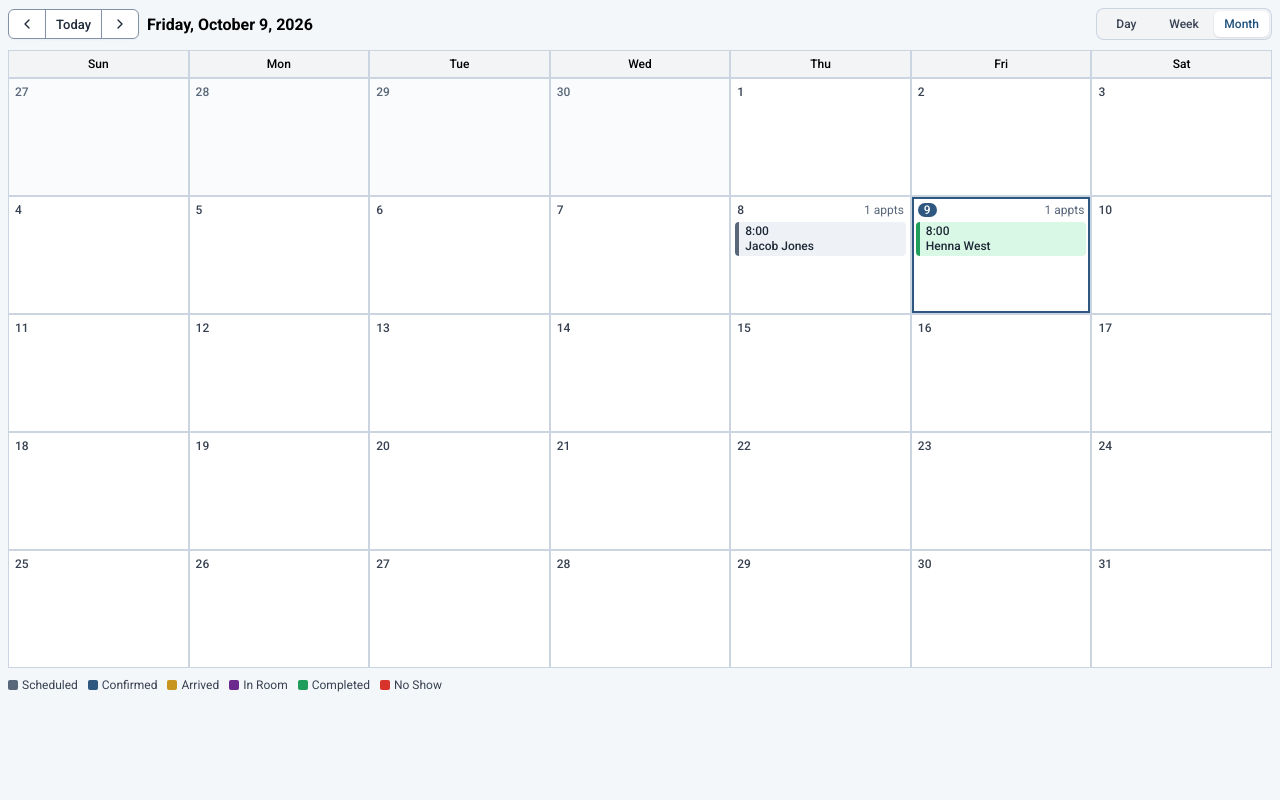
Calendar › navigates by view and back to today
The image size is (1280, 800).
What coordinates should you click on to do the following:
click the button named "Next"
I would click on:
 (120, 24)
Its box is [101,9,139,39].
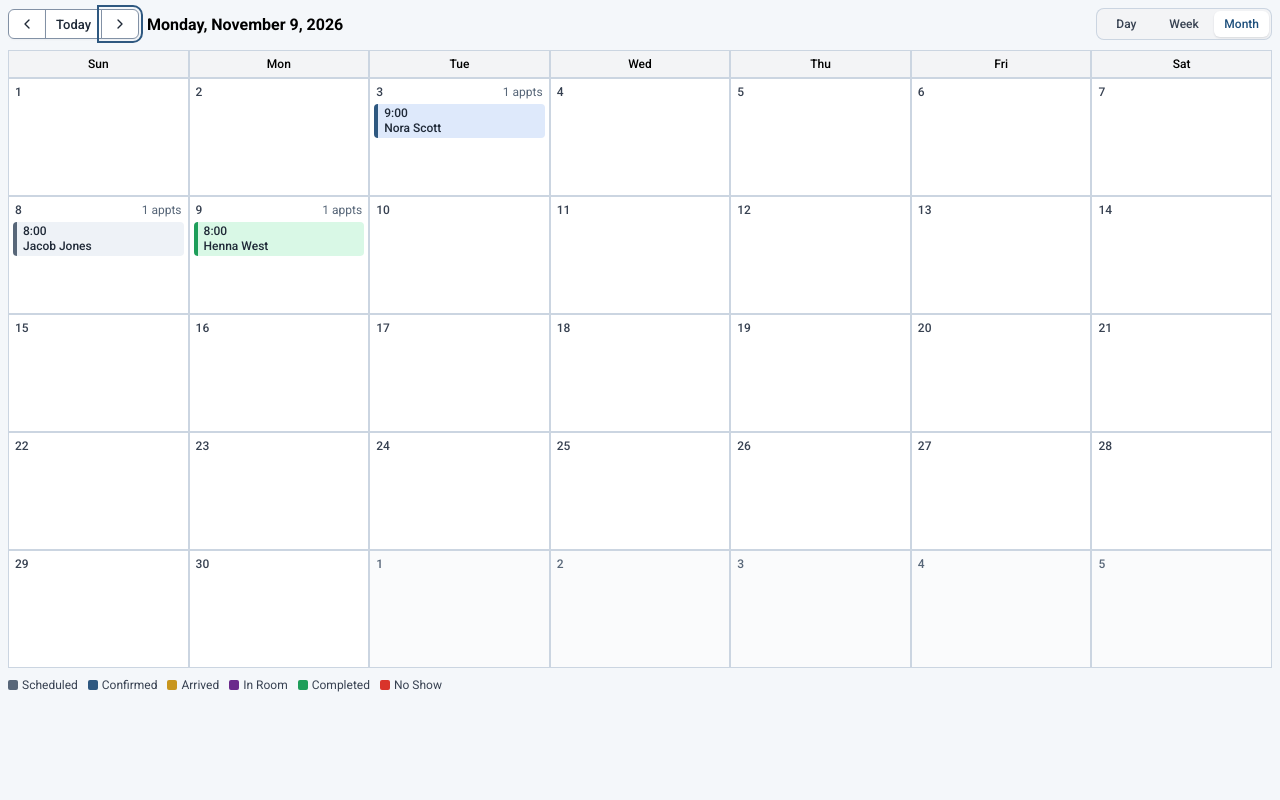
Result: the button "9:00 Nora Scott" is shown at [374,104,545,138]
What coordinates should you click on to do the following:
click the button "Today"
I would click on:
 (74, 24)
Its box is [45,9,102,39].
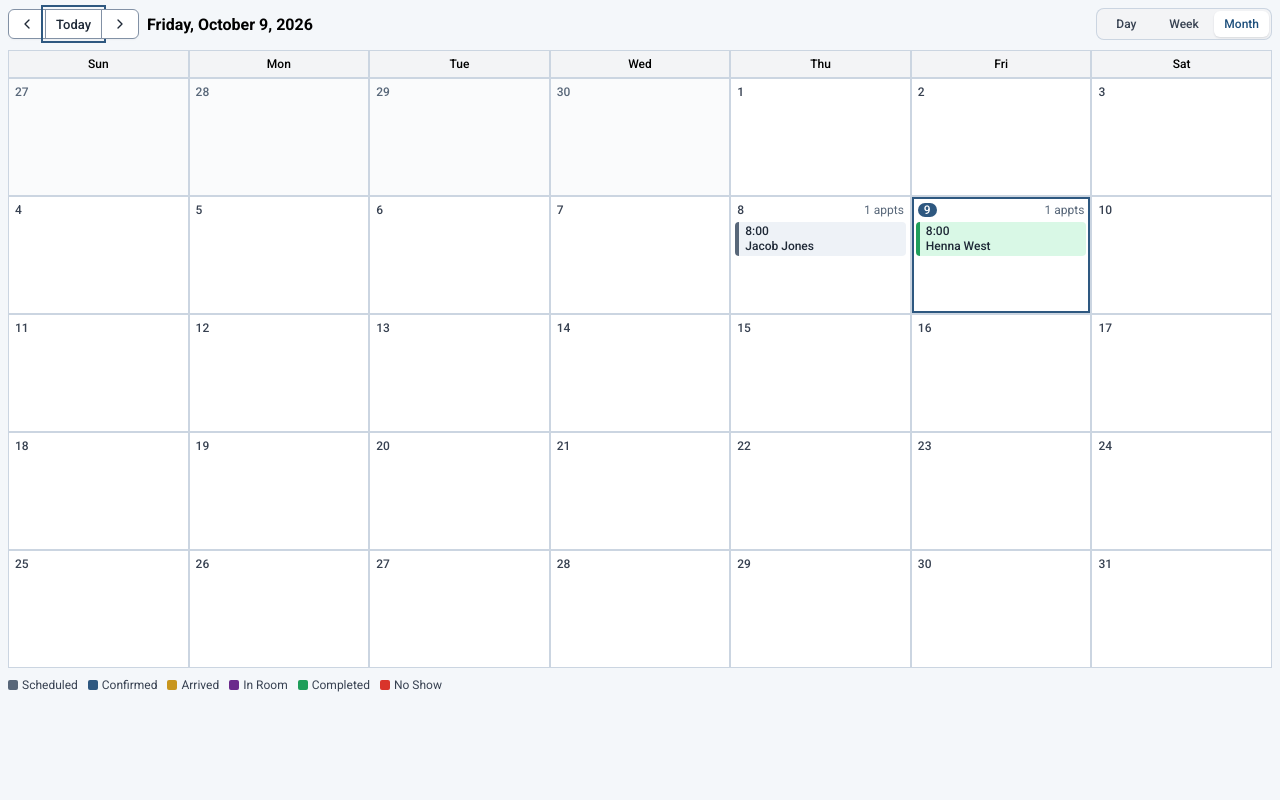
Result: the table named "October 2026" is shown
What coordinates should you click on to do the following:
click the button named "Previous"
I would click on:
 (27, 24)
Its box is [8,9,46,39].
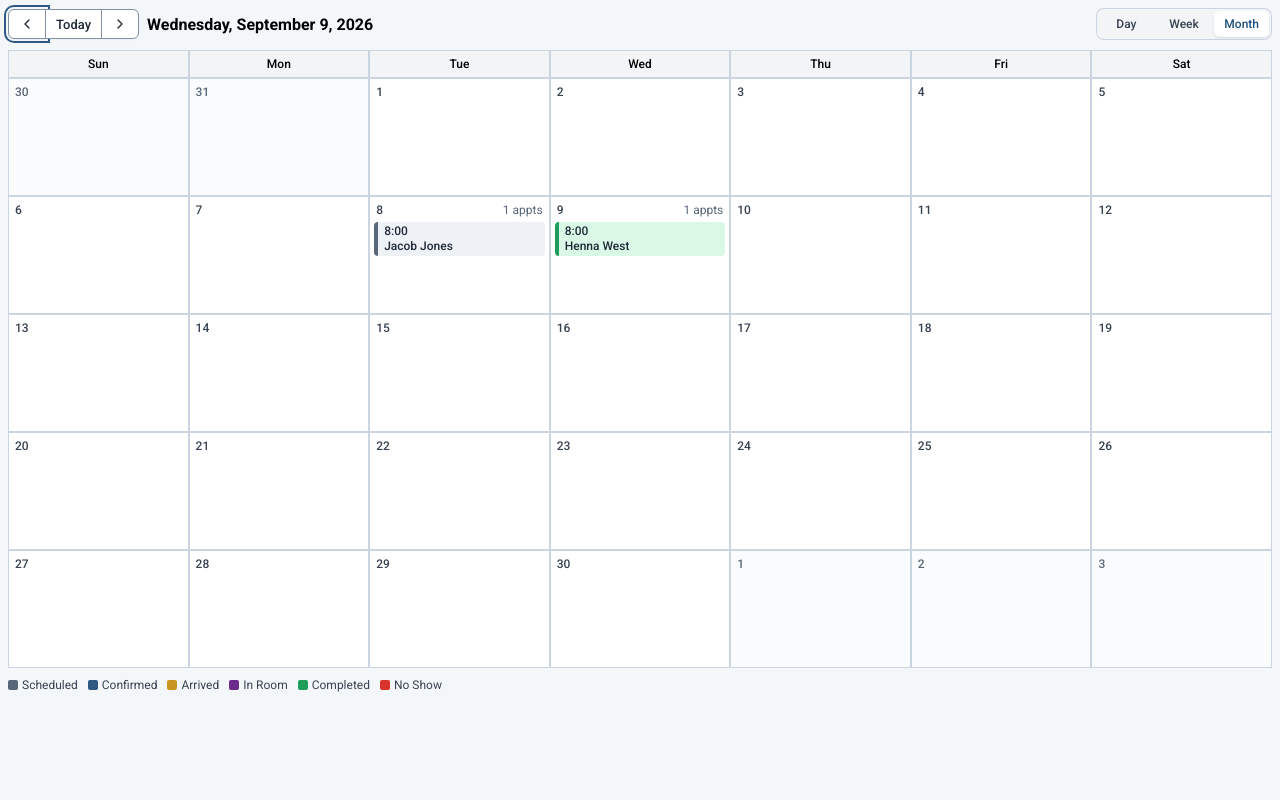
Result: the table named "September 2026" is shown
